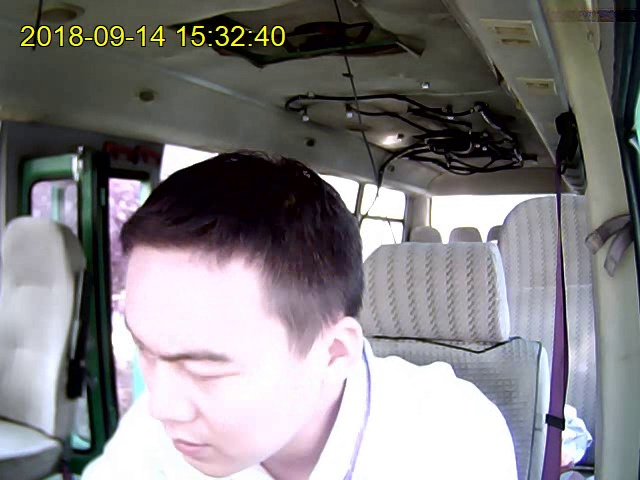closed_eye: (182, 364, 236, 384)
closed_mouth: (166, 430, 210, 456)
